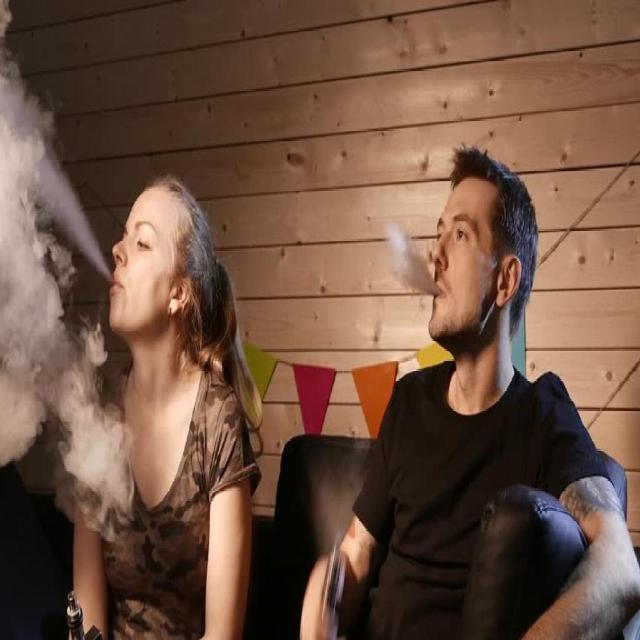smoking: (23, 174, 226, 496), (383, 126, 547, 468)
